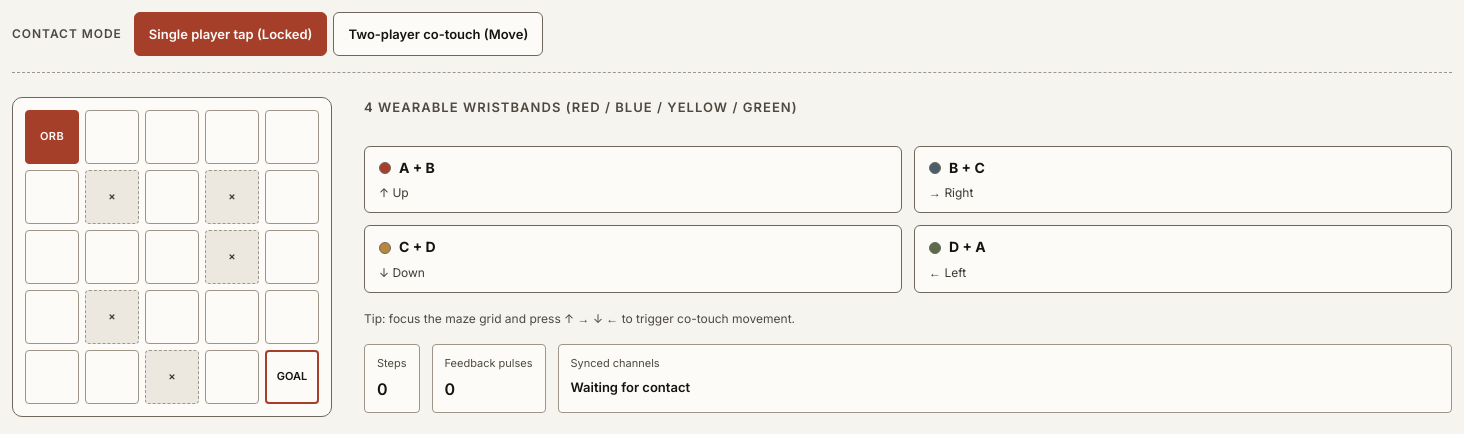
Test: CaseSimulatorFrame & Phase 3.6A Simulators › MazeContactSim locks solo taps and moves orb on two-player co-touch or Arrow keys
Later steps or results of the test are not shown.
# Solo tap shakes wristband and stays at 0 steps
What coordinates should you click on to do the following:
click the button "B + C → Right"
I would click on:
 (967, 167)
Its box is [914,146,1452,213].
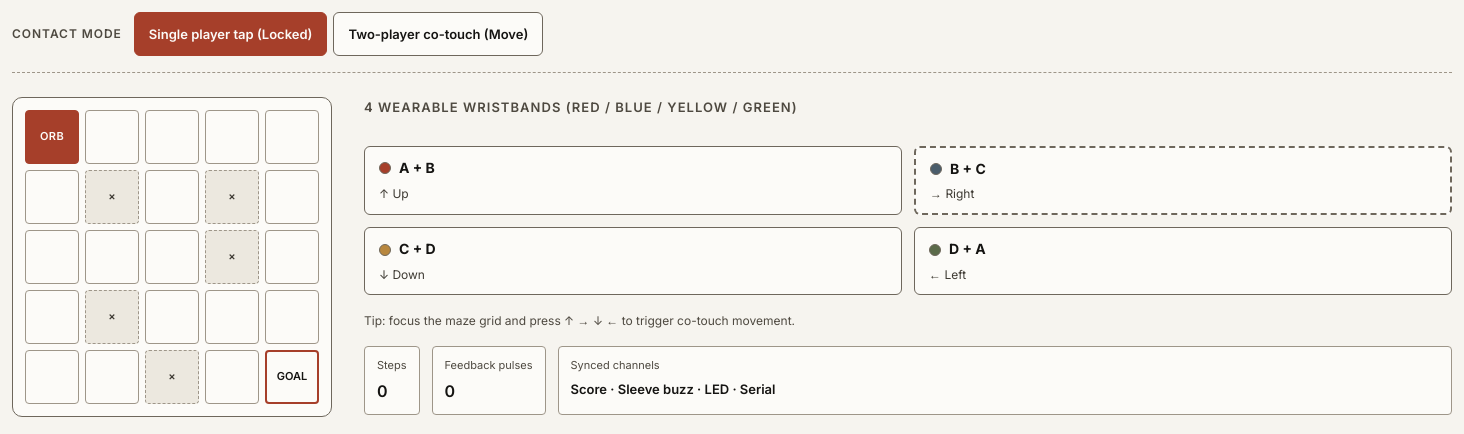
expect the button "B + C → Right" has attribute data-shake="true": met, box [914,146,1452,215]
# Switch to Two-player co-touch and move right + down
What coordinates should you click on to do the following:
click the button "Two-player co-touch (Move)"
I would click on:
 (438, 34)
Its box is [333,12,543,56].
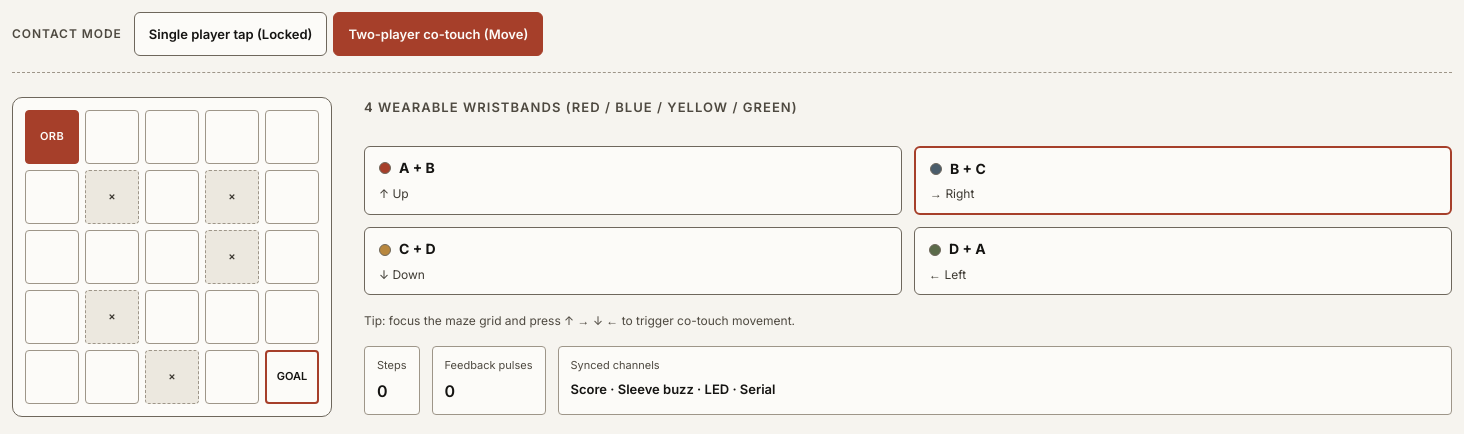
What coordinates should you click on to do the following:
click the button "B + C → Right"
I would click on:
 (968, 168)
Its box is [914,146,1452,215].
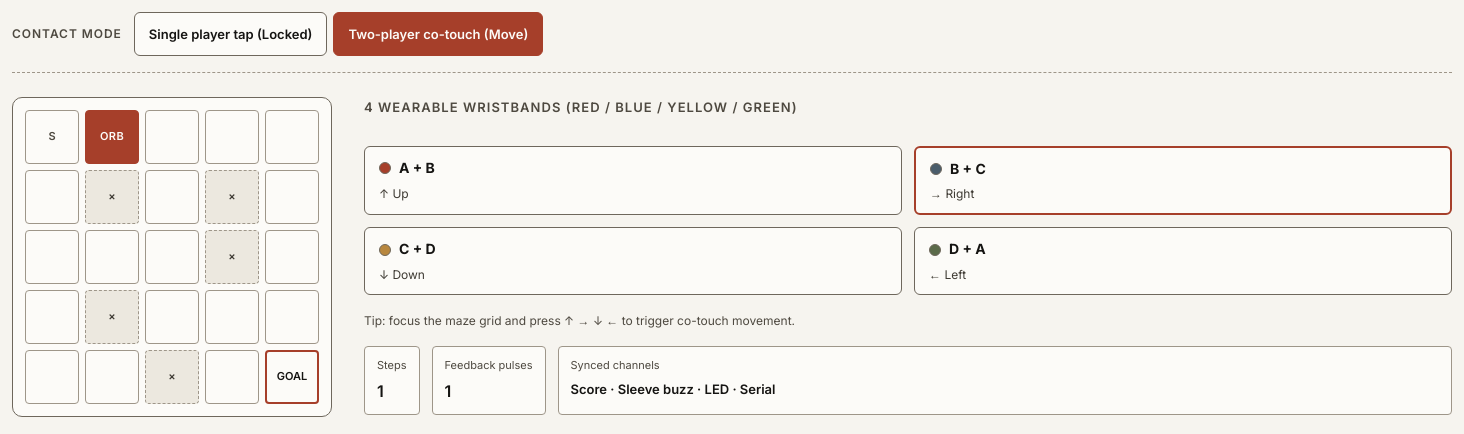
expect the button "B + C → Right" has attribute data-shake="false": met, box [914,146,1452,215]
